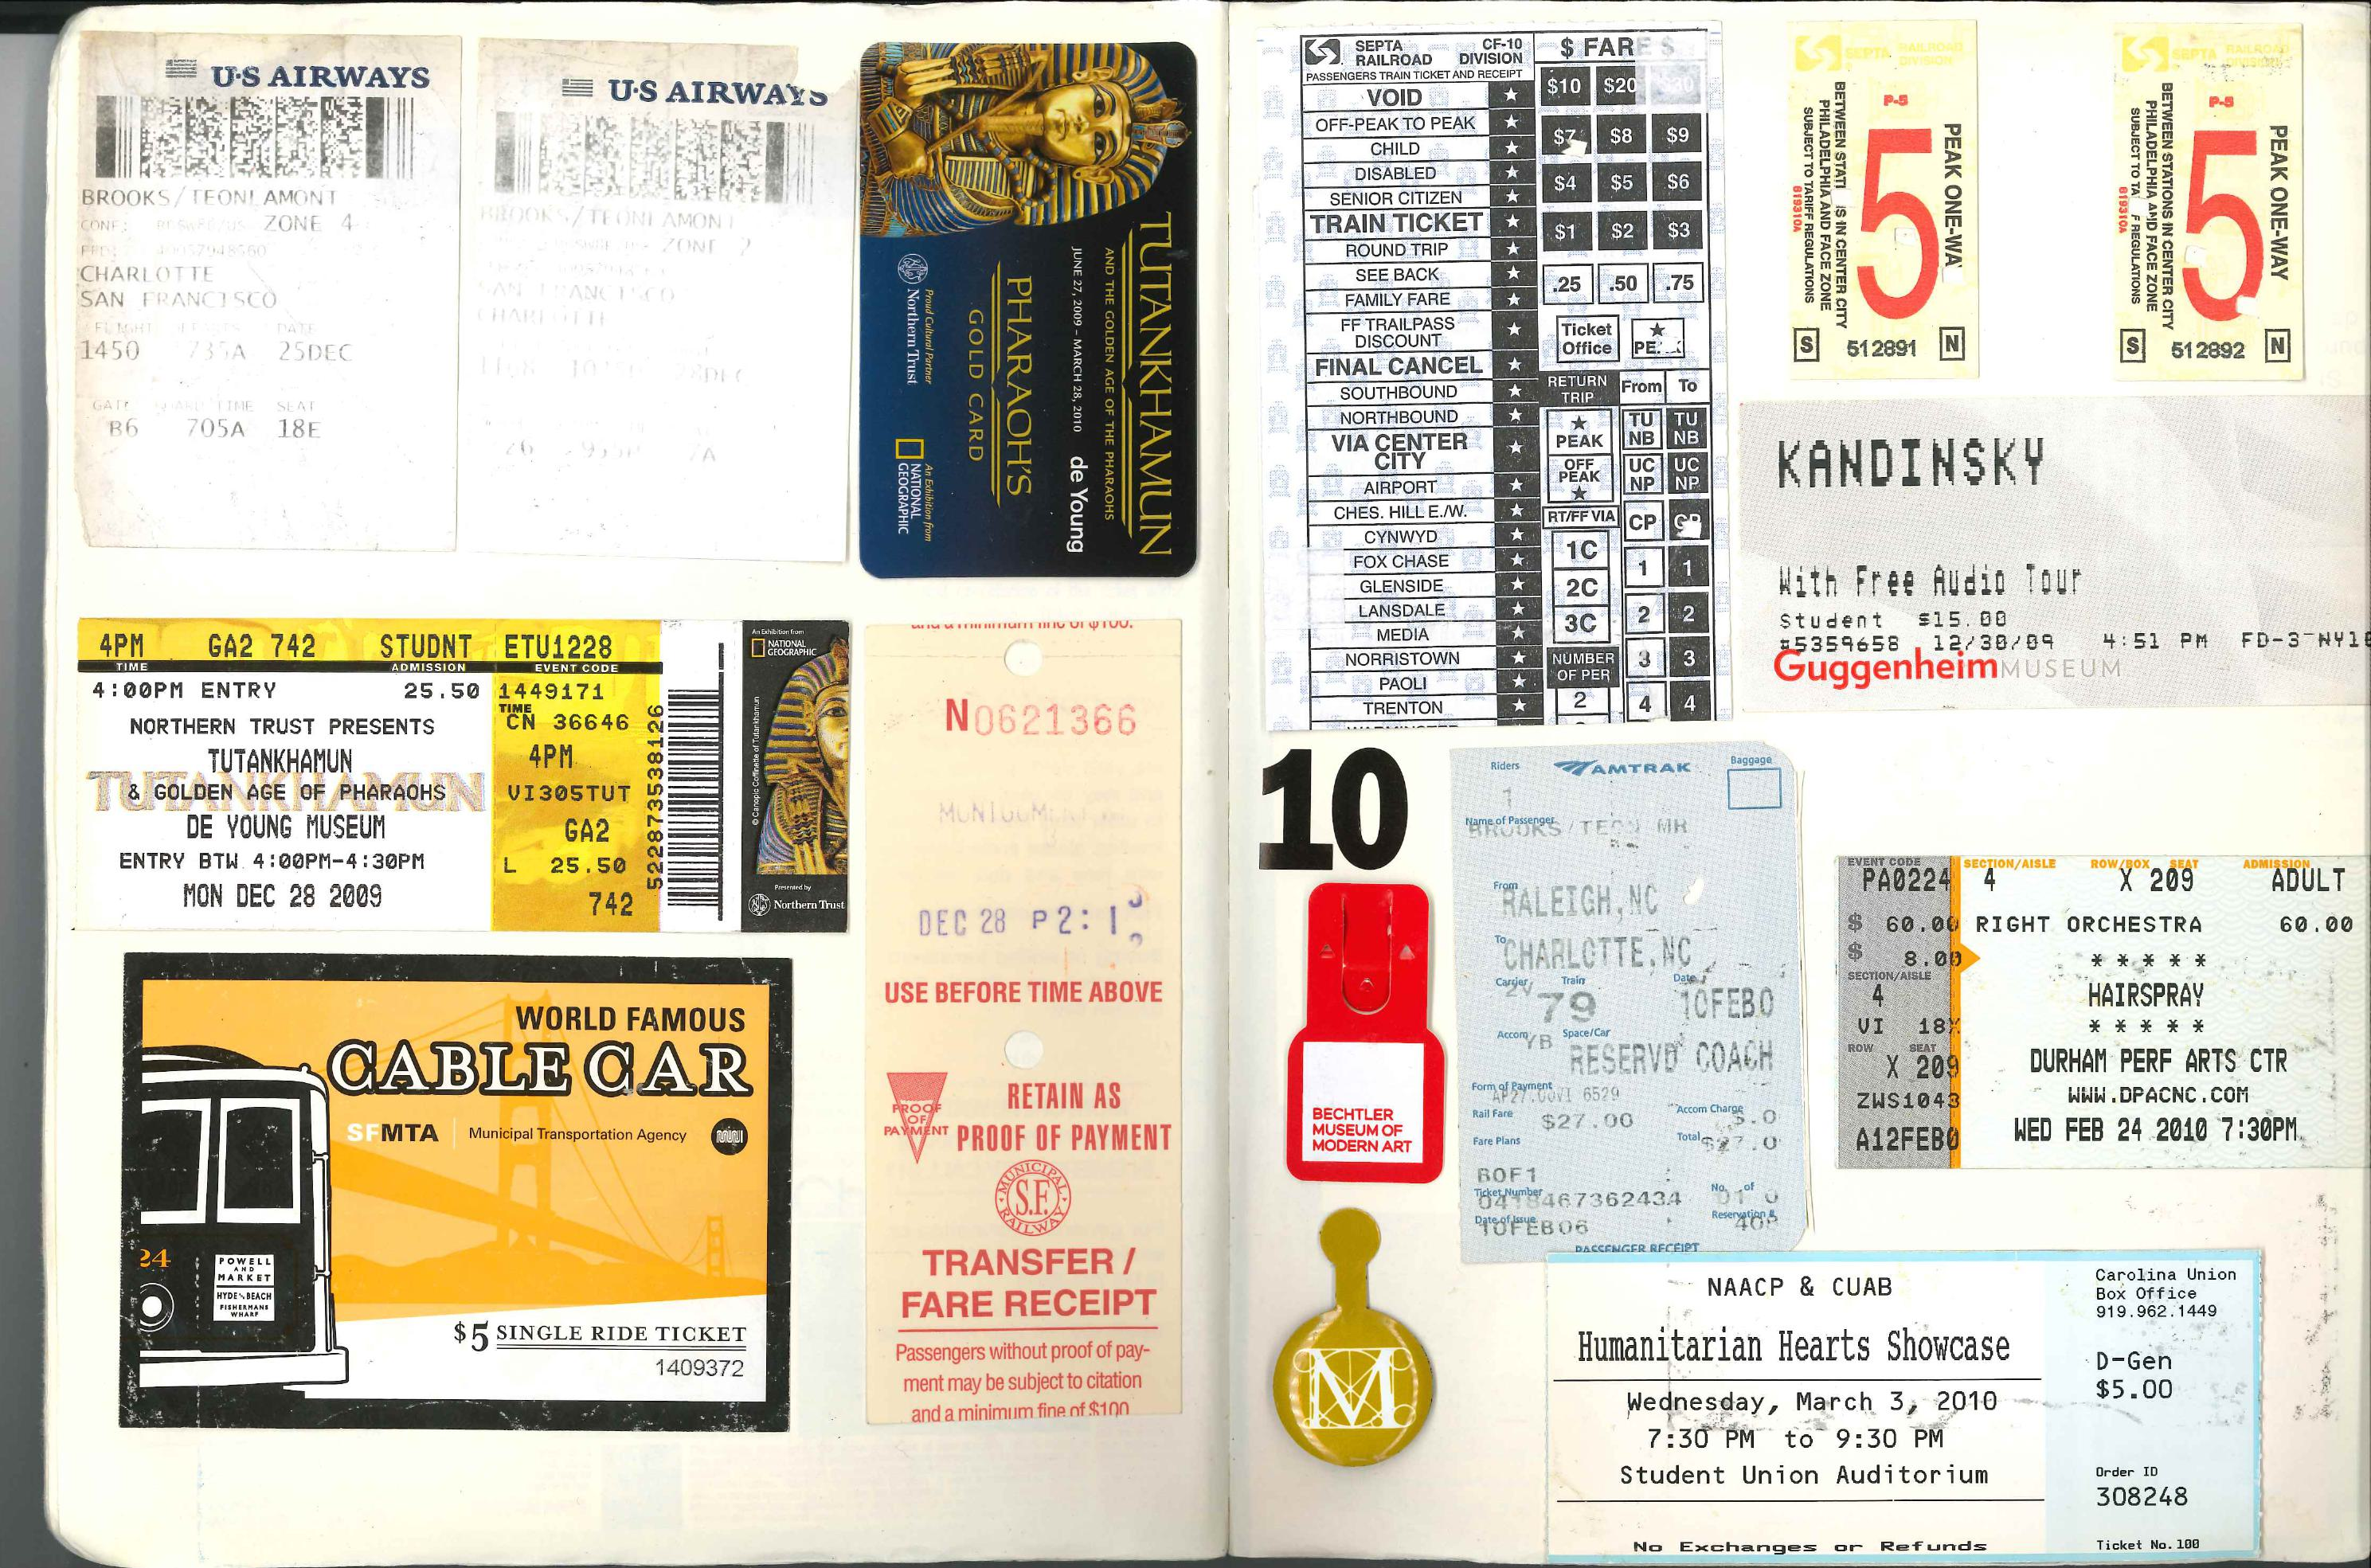article: (1249, 882, 1458, 1195), (1255, 1204, 1454, 1484)
stub: (1255, 26, 1734, 735), (121, 955, 789, 1435), (80, 616, 850, 938), (868, 618, 1169, 1428), (1549, 1251, 2263, 1563), (478, 35, 847, 570), (82, 31, 458, 556), (1743, 399, 2371, 705), (863, 35, 1202, 583), (1449, 745, 1811, 1255), (1836, 850, 2371, 1169), (1783, 21, 1984, 381), (2112, 24, 2310, 387)
